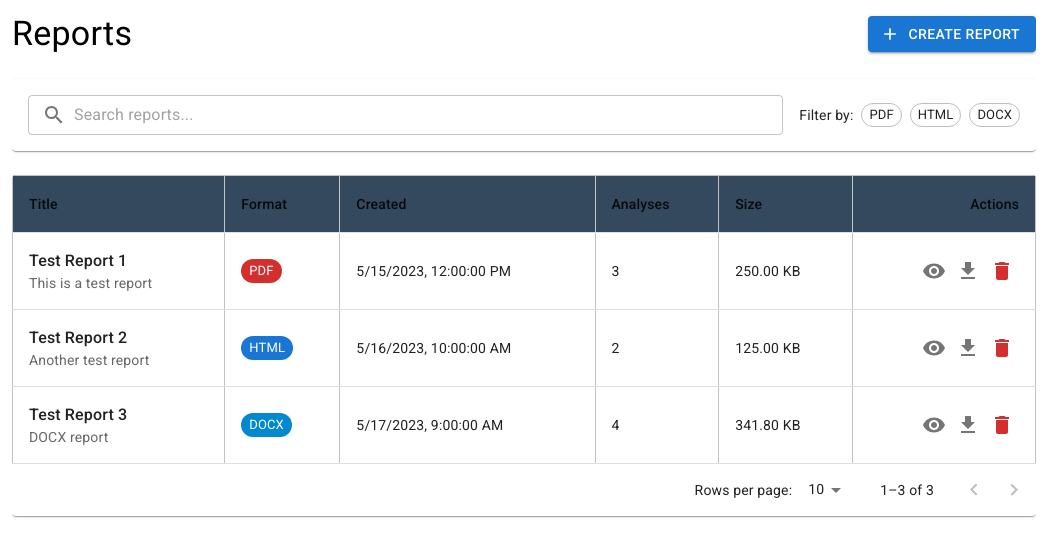
Test case: ReportList Component › handles format filtering
Click on the first PDF element (the filter chip in the filter bar)
Click the button "PDF" at x=882, y=115, box top-left (861, 103), bottom-right (902, 127)
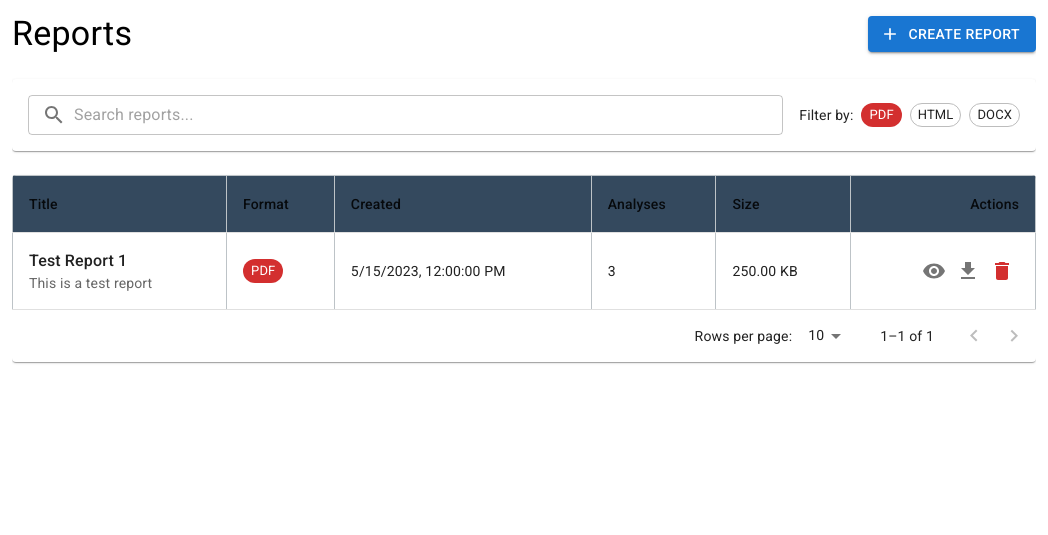
Expected: the text "Test Report 1" is shown, top-left (29, 251), bottom-right (127, 270)
Expected: the text "Test Report 2" is gone
Expected: the text "Test Report 3" is gone
Click on the PDF filter chip again to clear it
Click the button "PDF" at x=882, y=115, box top-left (861, 103), bottom-right (902, 127)
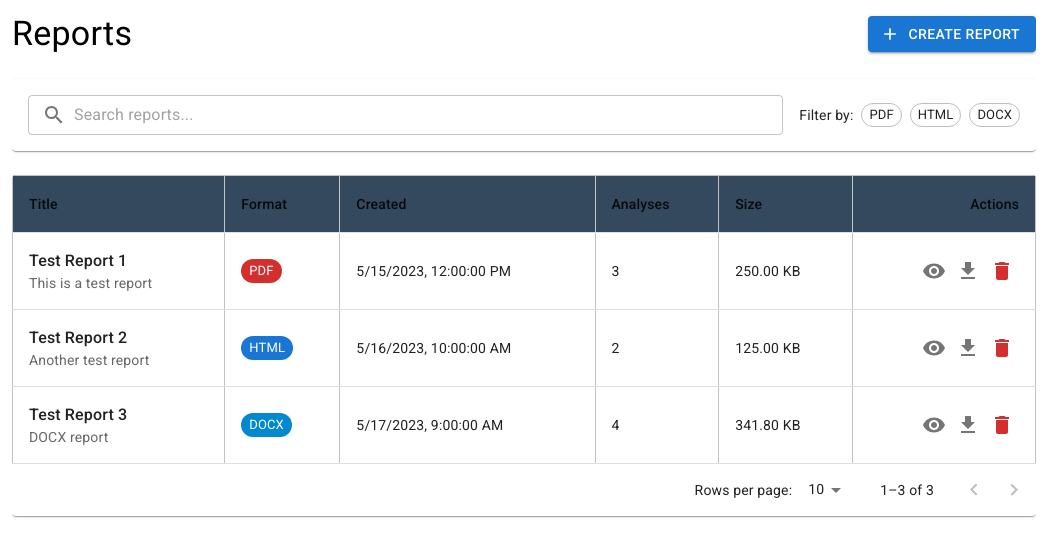
Expected: the text "Test Report 1" is shown, top-left (29, 251), bottom-right (127, 270)
Expected: the text "Test Report 2" is shown, top-left (29, 328), bottom-right (127, 347)
Expected: the text "Test Report 3" is shown, top-left (29, 405), bottom-right (127, 424)
